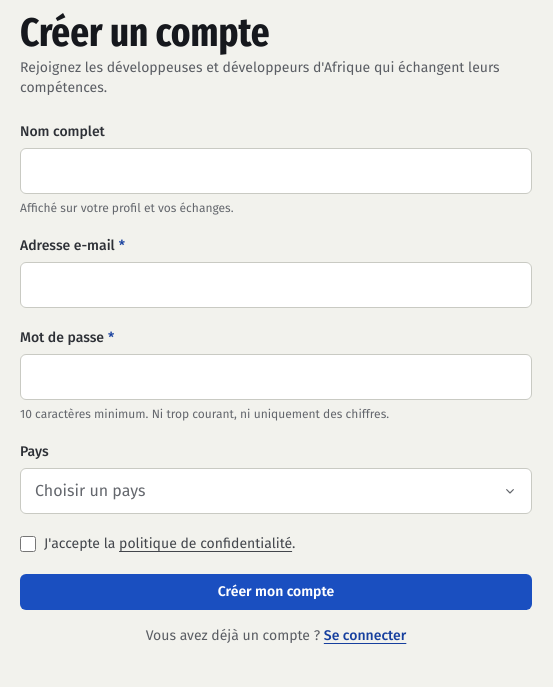
Test: page d'inscription › refuse un mot de passe de moins de 10 caractères
Type "ada@example.org" into the field labelled "Adresse e-mail*" at (276, 285), box x1=20 y1=262 x2=532 y2=308
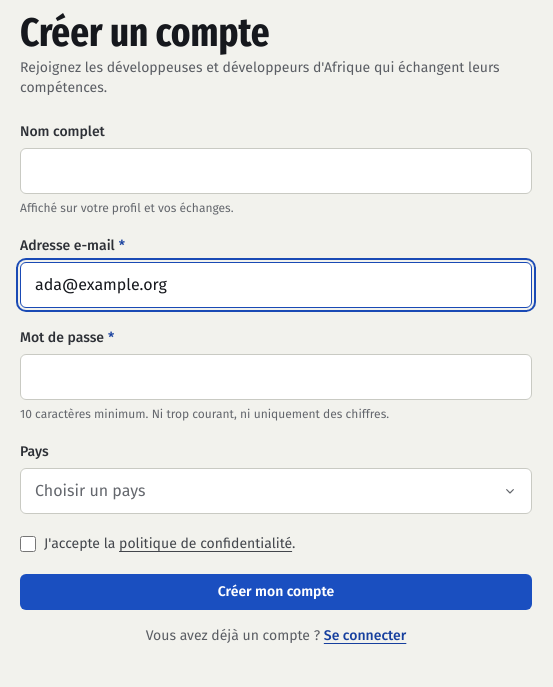
Type "court" into the password field labelled "Mot de passe*" at (276, 377), box x1=20 y1=354 x2=532 y2=400
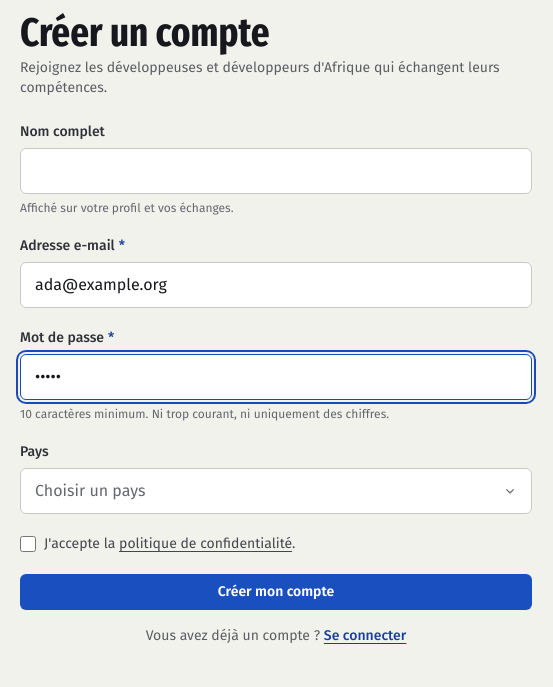
Click the checkbox at (28, 544), box x1=20 y1=536 x2=36 y2=552
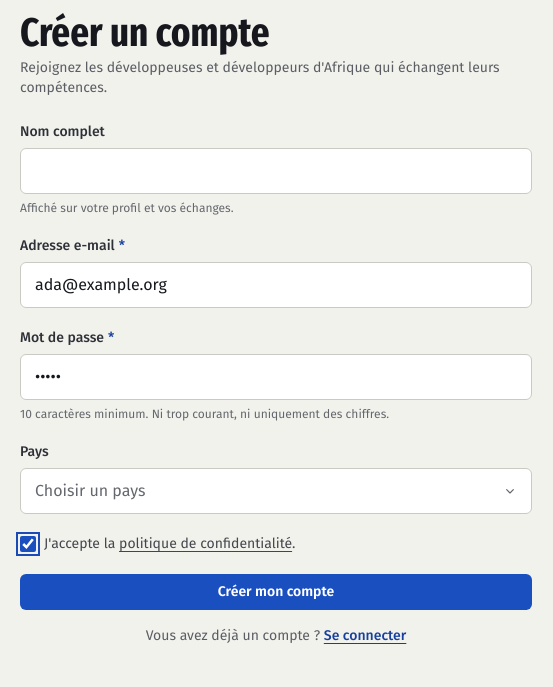
Click the button "Créer mon compte" at (276, 592), box x1=20 y1=574 x2=532 y2=610
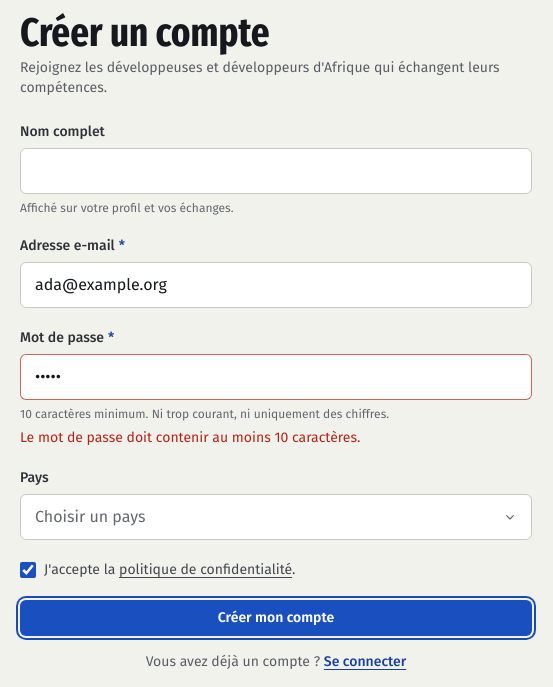
Now the text "Le mot de passe doit contenir au moins 10 caractères." is shown, box x1=20 y1=429 x2=360 y2=446
